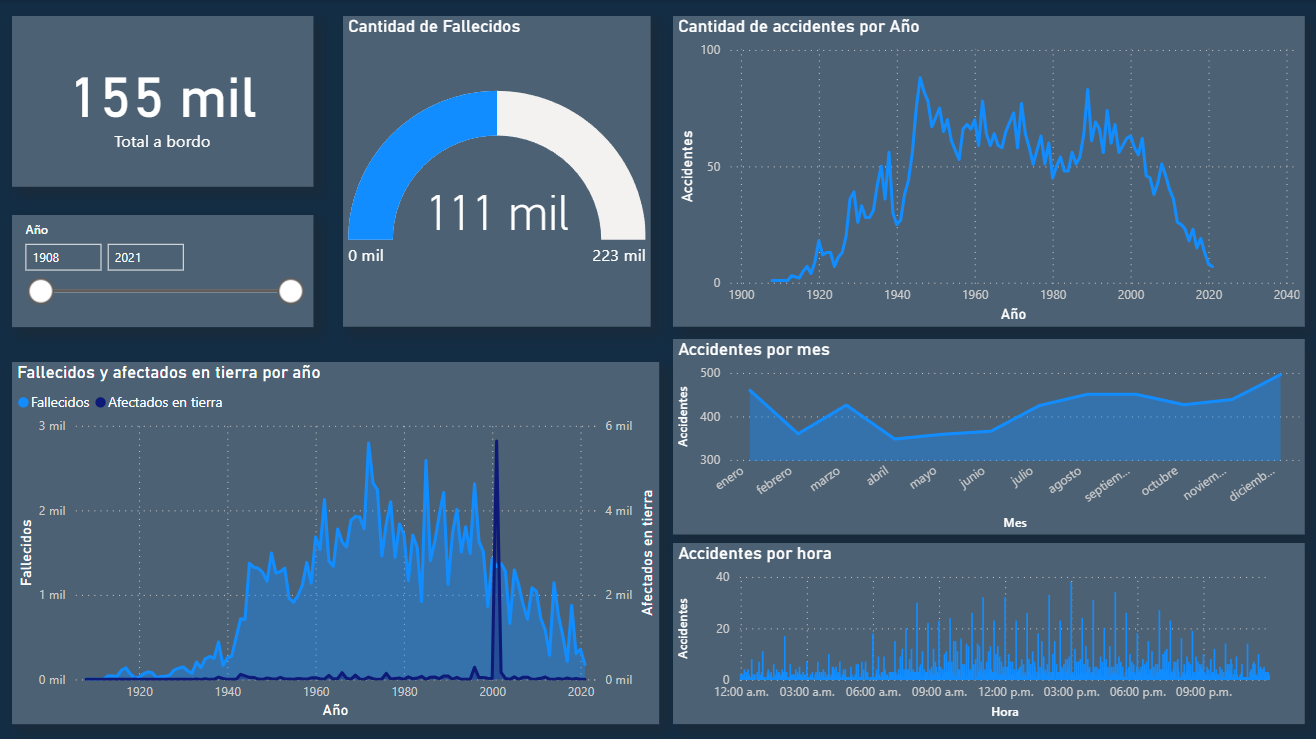

The page's visual inventory and layout, read from the dashboard file:
{"tool":"powerbi","page":{"name":"General","canvas":[1280,720],"ordinal":1},"visuals":[{"type":"areaChart","title":"Fallecidos y afectados en tierra por año","fields":{"Category":["accidente_limpio2.Fecha.Variación.Jerarquía de fechas.Año"],"Y":["Sum(accidente_limpio2.Fallecidos)"],"Y2":["Sum(accidente_limpio2.Afectados en tierra)"]},"box":[11.7,351.8,628.8,351.8],"z":0},{"type":"slicer","fields":{"Values":["accidente_limpio2.Año"]},"box":[11.7,231.3,292.5,108.9],"z":1000},{"type":"card","fields":{"Values":["Sum(accidente_limpio2.Todos a bordo)"]},"box":[19.4,41.8,277,160.4],"z":2000},{"type":"gauge","fields":{"Y":["Sum(accidente_limpio2.Fallecidos)"]},"box":[341.1,41.8,271.2,276],"z":3000},{"type":"lineChart","title":"Cantidad de accidentes por Año","fields":{"Category":["accidente_limpio2.Año"],"Y":["accidente_limpio2.Conteo de Accidentes por Ruta"]},"box":[648.3,15.6,620.1,302.3],"z":4000},{"type":"stackedAreaChart","title":"Accidentes por mes ","fields":{"Category":["accidente_limpio2.Fecha.Variación.Jerarquía de fechas.Mes"],"Y":["accidente_limpio2.Conteo de Accidentes por Ruta"]},"box":[654.1,329.5,608.4,190.5],"z":5000},{"type":"lineStackedColumnComboChart","title":" Accidentes por hora","fields":{"Category":["accidente_limpio2.Hora"],"Y":["accidente_limpio2.Conteo de Accidentes por Ruta"]},"box":[654.1,527.7,608.4,175.9],"z":6000}]}

Visuals, with their boxes in screenshot pixels (x1, y1, x2, y2), scaled from the page's 1280x720 canvas onto the 1316x739 screenshot:
"Fallecidos y afectados en tierra por año" areaChart: (left=12, top=361, right=659, bottom=722)
slicer - accidente_limpio2.Año: (left=12, top=237, right=313, bottom=349)
card - Sum(accidente_limpio2.Todos a bordo): (left=20, top=43, right=305, bottom=208)
gauge - Sum(accidente_limpio2.Fallecidos): (left=351, top=43, right=630, bottom=326)
"Cantidad de accidentes por Año" lineChart: (left=667, top=16, right=1304, bottom=326)
"Accidentes por mes " stackedAreaChart: (left=672, top=338, right=1298, bottom=534)
" Accidentes por hora" lineStackedColumnComboChart: (left=672, top=542, right=1298, bottom=722)
